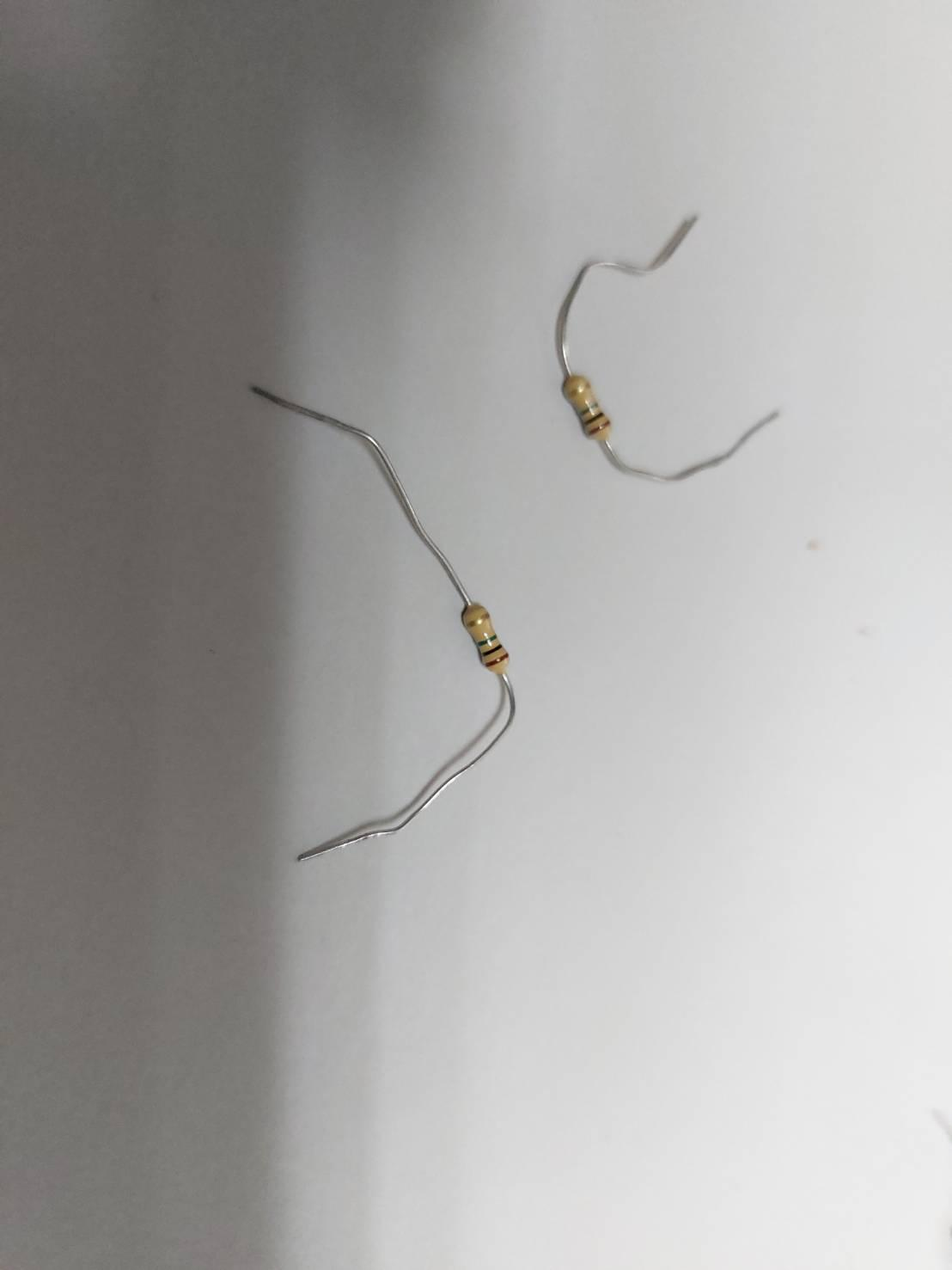resistor: (463, 602, 513, 676), (562, 375, 614, 443)
